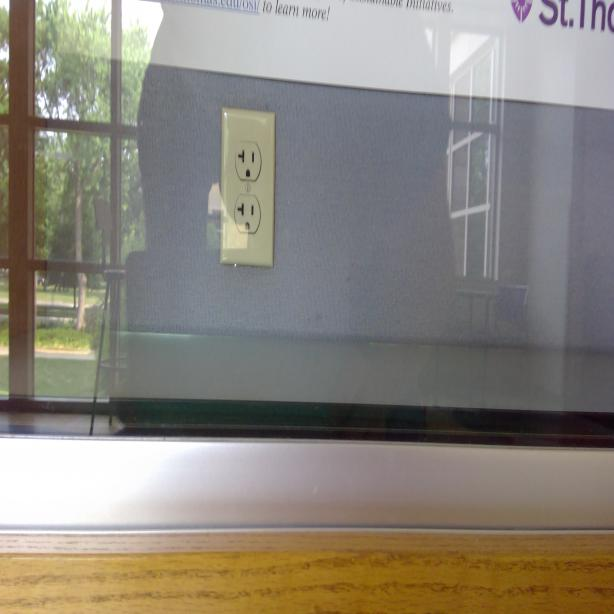typeb: (236, 140, 260, 178), (235, 199, 259, 234)
